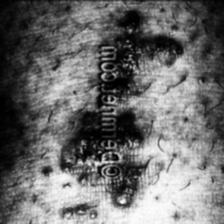Toxin: (150, 36, 187, 62), (36, 160, 62, 182)
